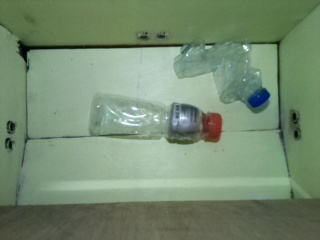bottle: (89, 91, 223, 145)
damaged-bottle: (174, 37, 270, 112)
